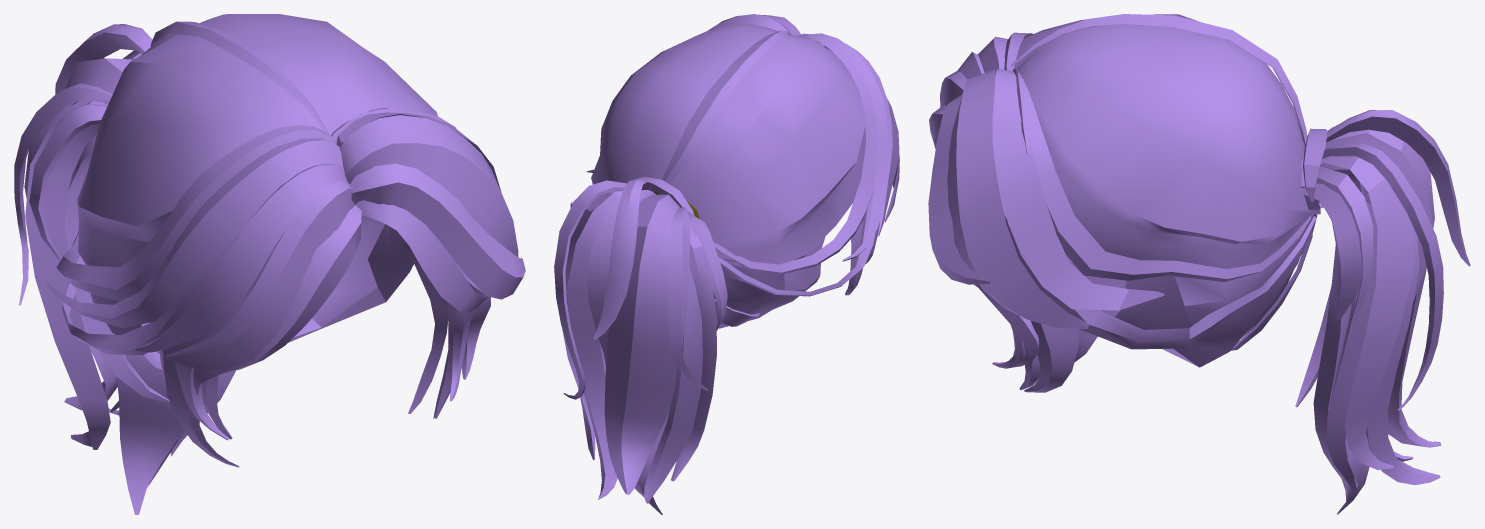
File: Ponytail.fbx
The picture shows the model from 3 angles, left to right: view 1: azimuth 30°, elevation 25°; view 2: azimuth 150°, elevation 25°; view 3: azimuth 270°, elevation 25°; orthographic projection. The views are drawn at different scales.
Visible parts, largest first — view 1: PonyTail_Hair; view 2: PonyTail_Hair; view 3: PonyTail_Hair.
Boxes of the visible parts, left/top/right/bottom form: PonyTail_Hair: left=14, top=14, right=525, bottom=514; PonyTail_Hair: left=554, top=14, right=899, bottom=514; PonyTail_Hair: left=928, top=14, right=1470, bottom=514.
Size of the model in its own units: 43.93 by 61.53 by 61.36.
